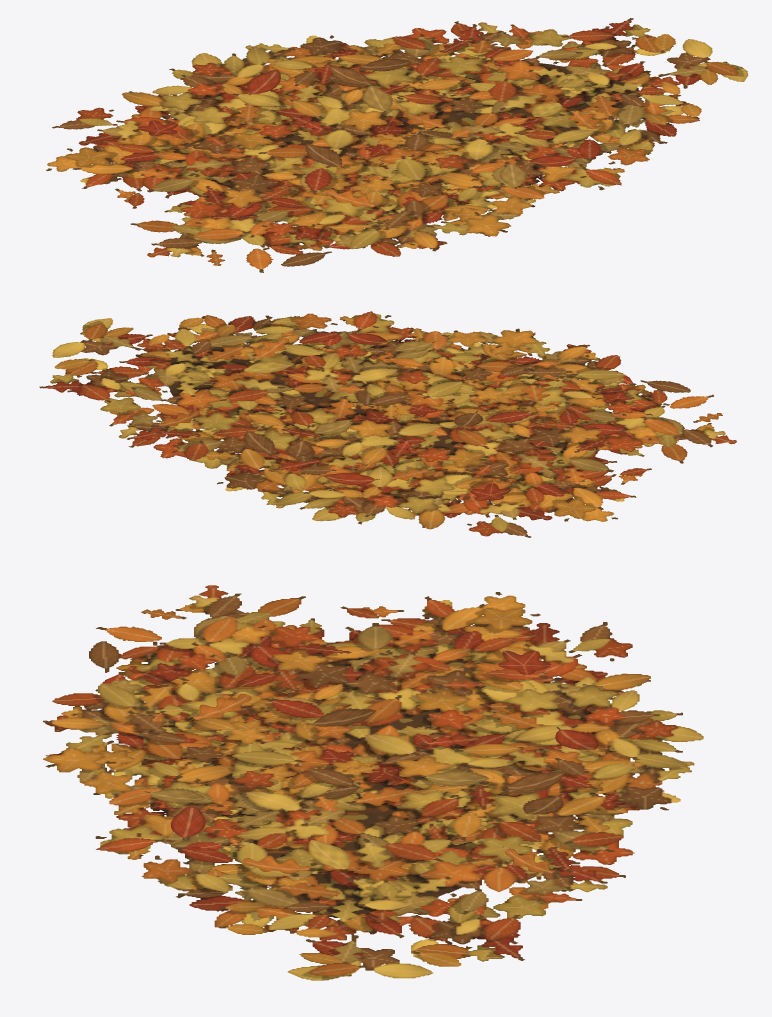
Rendered from fm_leaf_litter_patch_medium.glb.
3 renders of one model, top to bottom at view 1: azimuth 30°, elevation 25°; view 2: azimuth 150°, elevation 25°; view 3: azimuth 270°, elevation 25°, orthographic. The views are drawn at different scales.
Parts seen in each view (by area): view 1: fm_leaf_litter_patch_medium; view 2: fm_leaf_litter_patch_medium; view 3: fm_leaf_litter_patch_medium.
Boxes of the visible parts, box(x1,y1,x2,y2) form: fm_leaf_litter_patch_medium: box(46, 18, 748, 272); fm_leaf_litter_patch_medium: box(39, 311, 736, 537); fm_leaf_litter_patch_medium: box(43, 585, 703, 980).
Bounding box in the file's own units: 1.6 × 0.0254 × 1.17.
Materials: 2 (2 with a texture image).
